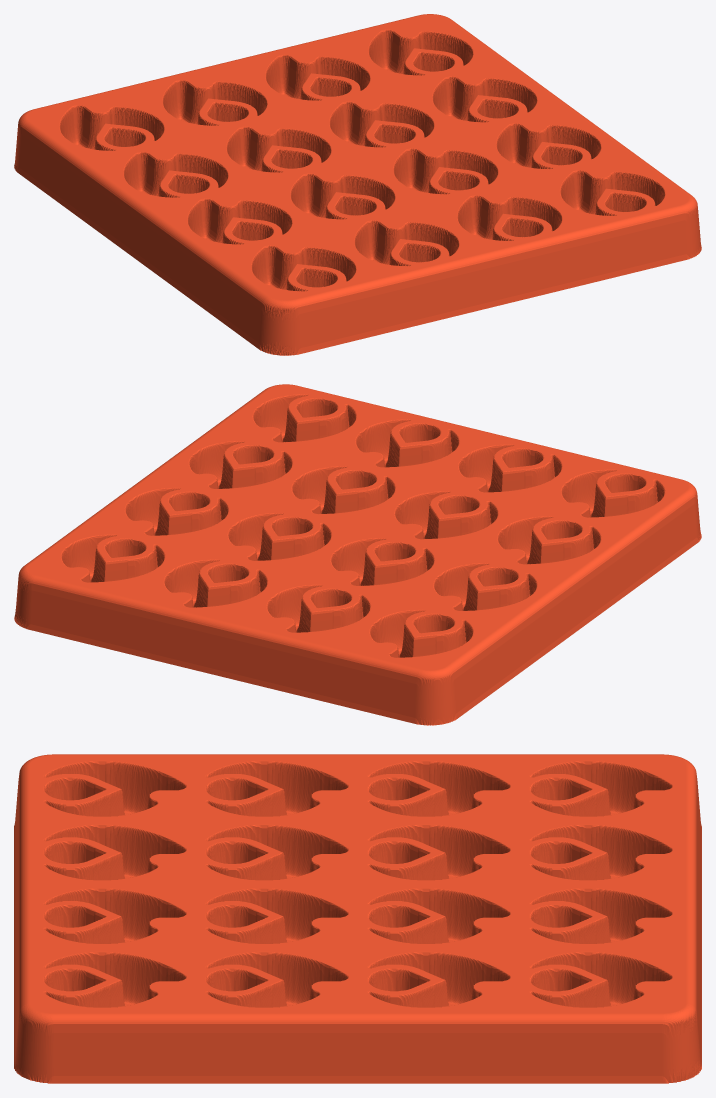
File: mold.glb
3 views of the same model, one above another, from view 1: azimuth 30°, elevation 25°; view 2: azimuth 150°, elevation 25°; view 3: azimuth 270°, elevation 25° (orthographic). The views are drawn at different scales.
Visible parts, largest first — view 1: geometry_0; view 2: geometry_0; view 3: geometry_0.
Boxes of the visible parts, x1,y1,x2,y2 form: geometry_0: (14,14,701,355); geometry_0: (14,384,701,725); geometry_0: (14,754,701,1083).
Size of the model in its own units: 0.1465 by 0.0159 by 0.1569.
